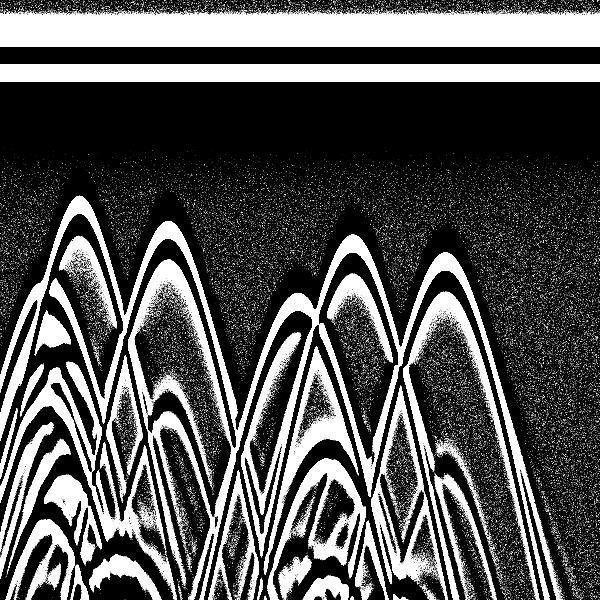pipe: (249, 8, 350, 372), (397, 4, 496, 329), (306, 5, 402, 320), (2, 6, 88, 356), (121, 4, 217, 314), (36, 7, 123, 279)
